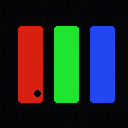0 point: (34, 90, 40, 96)
